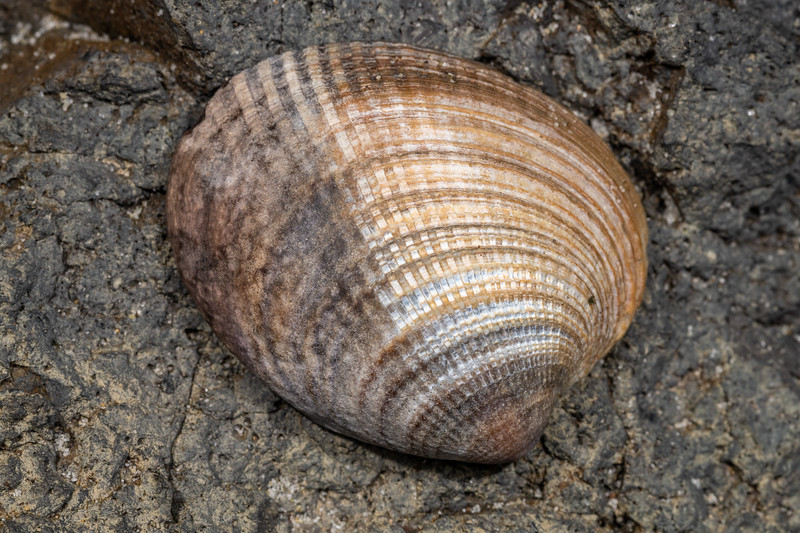cockle: (160, 40, 657, 474)
